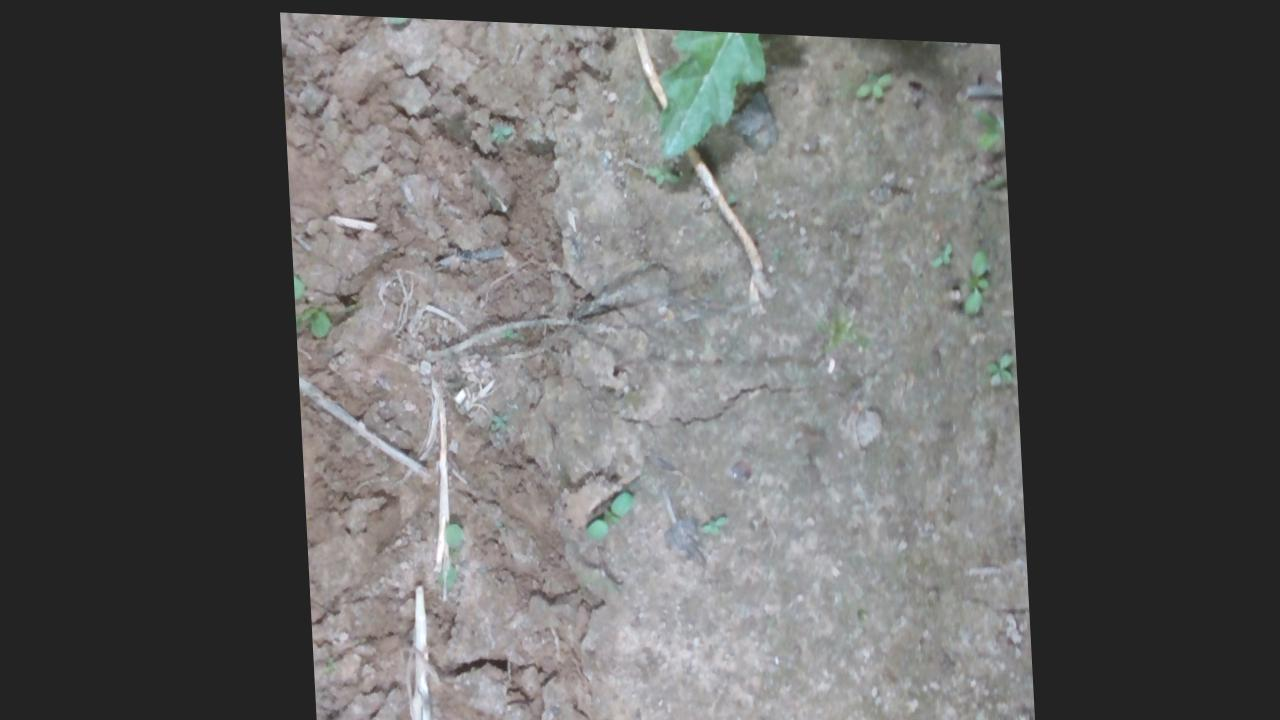weed: (575, 484, 630, 540), (954, 239, 989, 310), (851, 60, 894, 95), (980, 342, 1011, 381), (690, 508, 726, 532), (924, 232, 951, 261)
